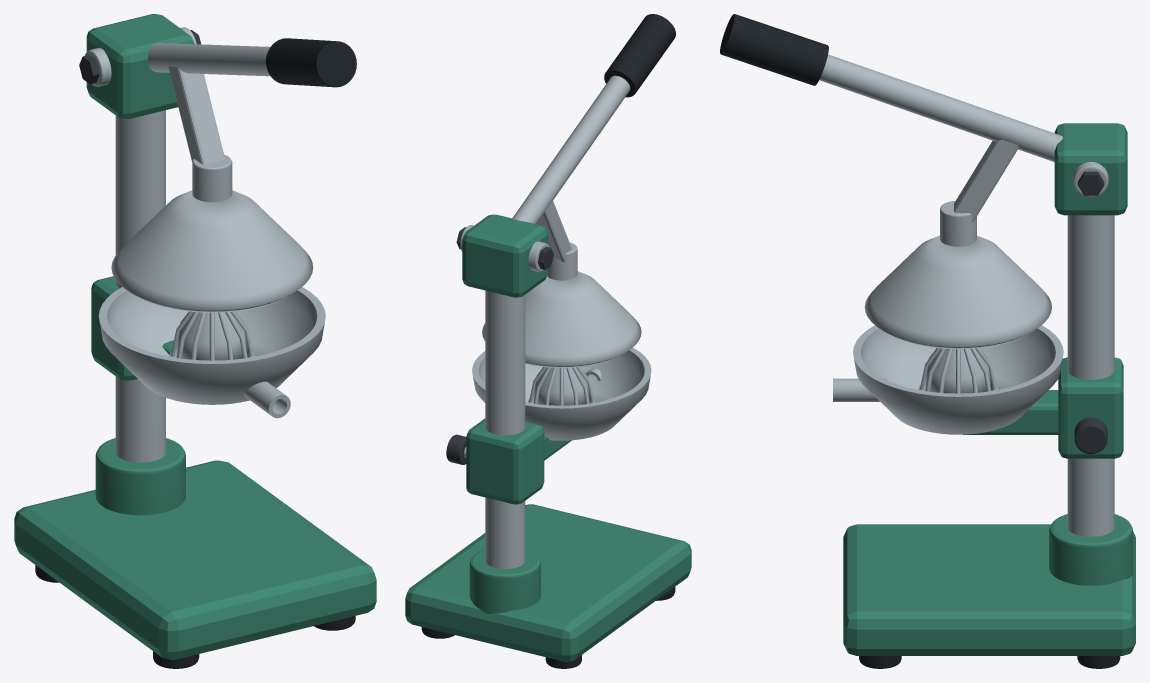
The model's file is city-lever-citrus-press.glb.
3 views of the same model, side by side, from view 1: azimuth 30°, elevation 25°; view 2: azimuth 150°, elevation 25°; view 3: azimuth 270°, elevation 25° (orthographic). The views are drawn at different scales.
Parts seen in each view (by area): view 1: Assembly | Green enamel machine body, Assembly | Brushed exposed steel, Assembly | Rubber feet and hoses; view 2: Assembly | Green enamel machine body, Assembly | Brushed exposed steel, Assembly | Rubber feet and hoses, Assembly | Dark mechanism trim; view 3: Assembly | Brushed exposed steel, Assembly | Green enamel machine body, Assembly | Rubber feet and hoses, Assembly | Dark mechanism trim.
Part boxes in pixels (bbox=[...]): Assembly | Green enamel machine body: bbox=[14, 14, 376, 659]; Assembly | Brushed exposed steel: bbox=[85, 27, 325, 462]; Assembly | Rubber feet and hoses: bbox=[35, 38, 356, 668]; Assembly | Green enamel machine body: bbox=[405, 214, 691, 661]; Assembly | Brushed exposed steel: bbox=[460, 75, 651, 568]; Assembly | Rubber feet and hoses: bbox=[421, 14, 675, 668]; Assembly | Dark mechanism trim: bbox=[446, 227, 553, 464]; Assembly | Brushed exposed steel: bbox=[819, 54, 1114, 536]; Assembly | Green enamel machine body: bbox=[843, 123, 1135, 655]; Assembly | Rubber feet and hoses: bbox=[720, 14, 1120, 668]; Assembly | Dark mechanism trim: bbox=[1074, 171, 1107, 453].
Size of the model in its own units: 0.238 by 0.6893 by 0.4263.
